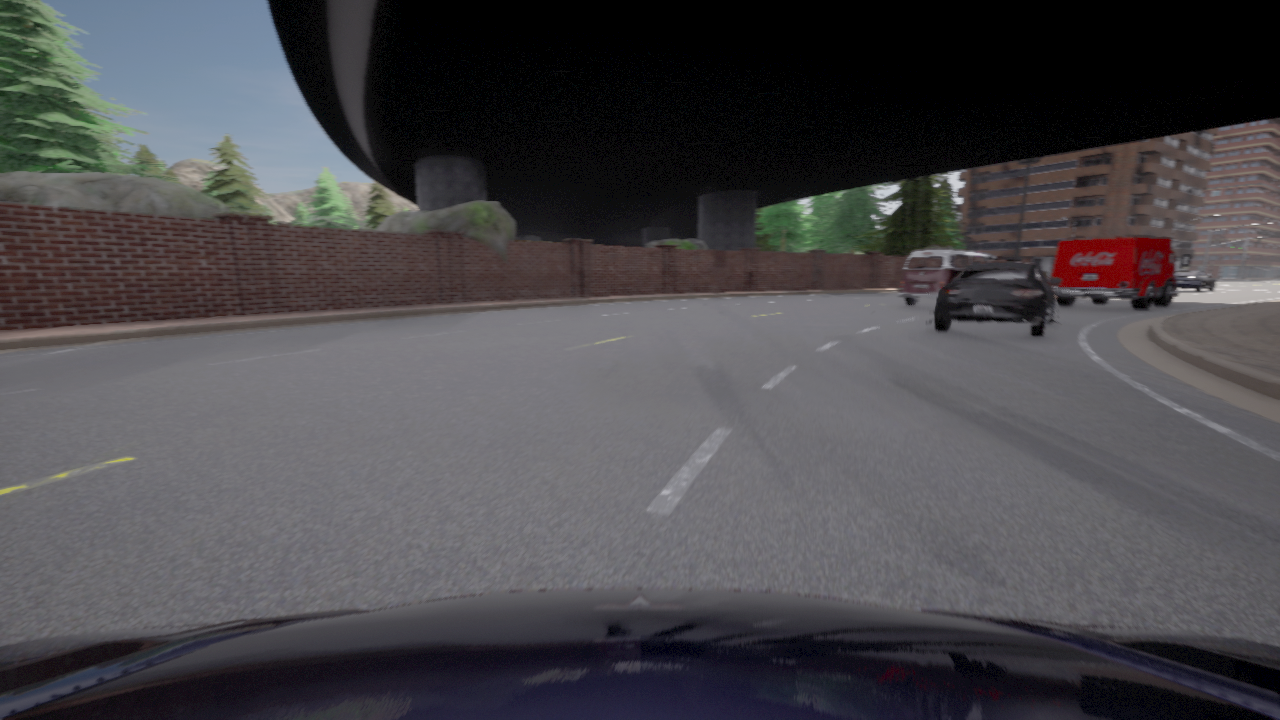cyclist: (0, 588, 1279, 719), (1050, 236, 1190, 308), (928, 262, 1061, 336), (897, 248, 997, 305), (1174, 270, 1215, 291)
